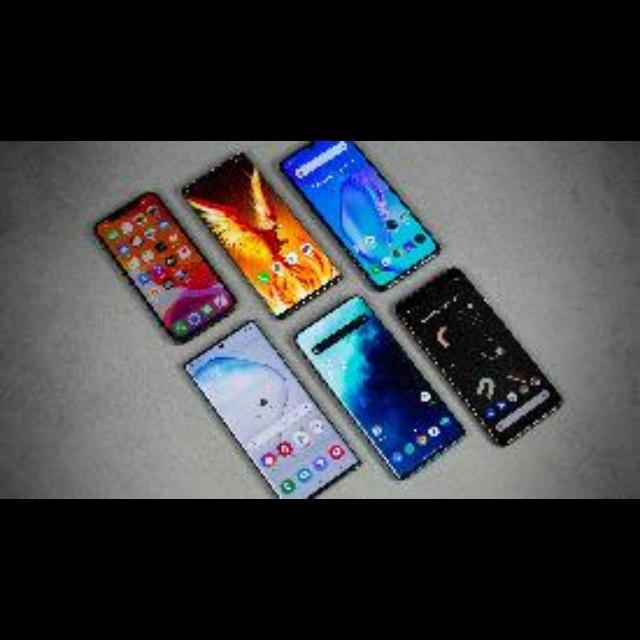Phone: (292, 328, 452, 476), (175, 353, 335, 499), (398, 298, 566, 436), (276, 144, 450, 272), (173, 172, 324, 292), (82, 200, 216, 324)
